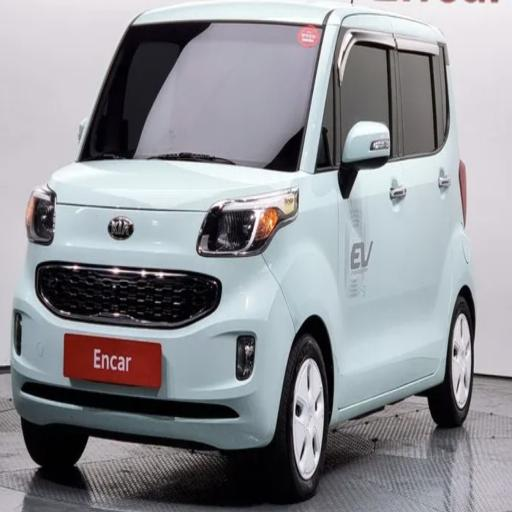normal: (13, 14, 500, 503)
